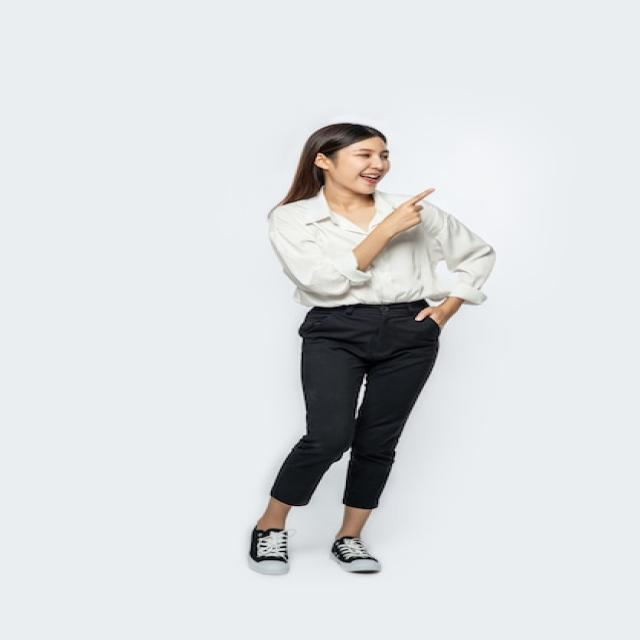Person: (245, 123, 496, 576)
